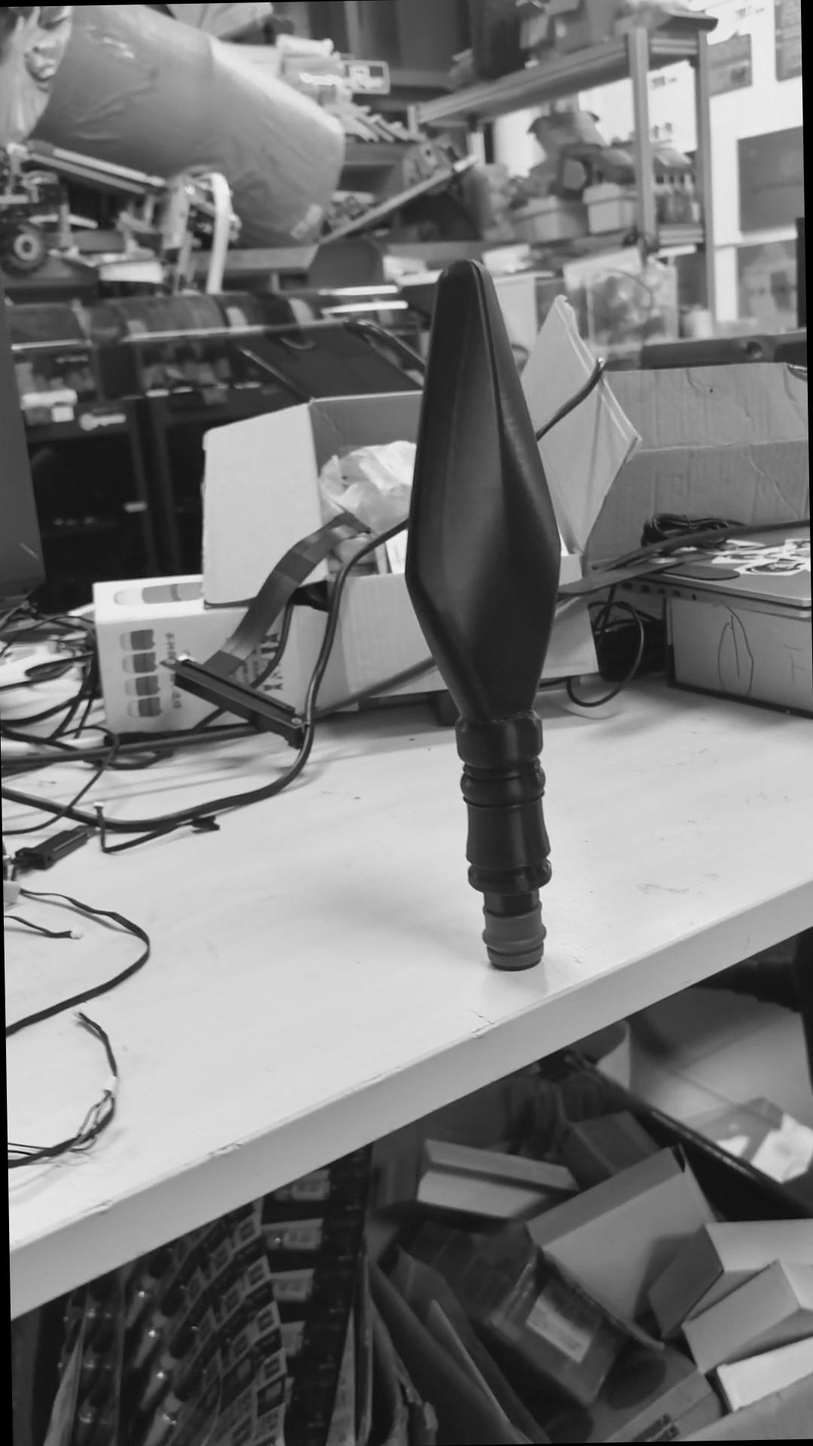base: (470, 904, 556, 982)
